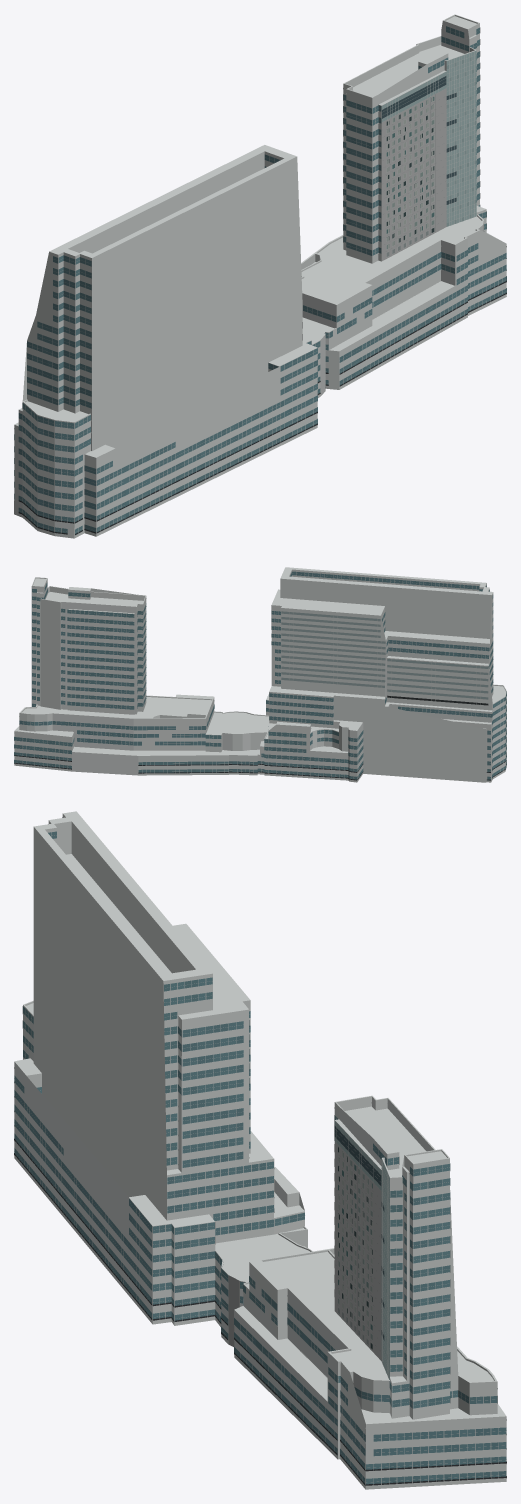
File: mark-city-before-west-cap.glb
3 renders of one model, top to bottom at view 1: azimuth 30°, elevation 25°; view 2: azimuth 150°, elevation 25°; view 3: azimuth 270°, elevation 25°, orthographic. The views are drawn at different scales.
Parts seen in each view (by area): view 1: mark-city_wall, mark-city_roof, mark-city_glass2, mark-city_glass0, mark-city_glass1, mark-city_spandrel, mark-city_east_hotel_wall, mark-city_east_curtain_pale, mark-city_east_window_frame, mark-city_frame, mark-city_sign_housing, mark-city_east_curtain_closed (+2 smaller); view 2: mark-city_wall, mark-city_roof, mark-city_glass1, mark-city_glass2, mark-city_glass0, mark-city_spandrel, mark-city_west_ribbon_glass, mark-city_west_lower_glass, mark-city_frame, mark-city_sign_housing, mark-city_west_ribbon_frame, mark-city_west_lower_frame (+1 smaller); view 3: mark-city_wall, mark-city_roof, mark-city_glass2, mark-city_glass1, mark-city_glass0, mark-city_spandrel, mark-city_east_hotel_wall, mark-city_frame, mark-city_east_curtain_pale, mark-city_sign_housing, mark-city_east_window_frame, mark-city_east_curtain_closed.
Part boxes in pixels (x1,y1,x2,y2): mark-city_wall: (14, 15, 506, 538); mark-city_roof: (14, 14, 500, 457); mark-city_glass2: (14, 29, 506, 534); mark-city_glass0: (14, 27, 506, 533); mark-city_glass1: (14, 26, 502, 531); mark-city_spandrel: (14, 33, 506, 536); mark-city_east_hotel_wall: (381, 88, 446, 261); mark-city_east_curtain_pale: (381, 50, 476, 225); mark-city_east_window_frame: (382, 52, 476, 257); mark-city_frame: (19, 27, 506, 535); mark-city_sign_housing: (18, 281, 506, 534); mark-city_east_curtain_closed: (386, 97, 434, 248); mark-city_wall: (14, 569, 506, 782); mark-city_roof: (14, 567, 506, 755); mark-city_glass1: (14, 572, 506, 780); mark-city_glass2: (14, 571, 506, 778); mark-city_glass0: (14, 572, 506, 779); mark-city_spandrel: (14, 575, 506, 781); mark-city_west_ribbon_glass: (281, 611, 385, 687); mark-city_west_lower_glass: (387, 659, 488, 699); mark-city_frame: (17, 573, 504, 779); mark-city_sign_housing: (14, 755, 506, 780); mark-city_west_ribbon_frame: (281, 611, 384, 687); mark-city_west_lower_frame: (387, 658, 487, 705); mark-city_wall: (14, 813, 506, 1489); mark-city_roof: (14, 811, 505, 1424); mark-city_glass2: (14, 817, 506, 1484); mark-city_glass1: (14, 831, 506, 1483); mark-city_glass0: (14, 979, 506, 1485); mark-city_spandrel: (14, 838, 506, 1486); mark-city_east_hotel_wall: (334, 1141, 381, 1360); mark-city_frame: (14, 817, 505, 1484); mark-city_east_curtain_pale: (334, 1121, 389, 1379); mark-city_sign_housing: (14, 1139, 506, 1485); mark-city_east_window_frame: (334, 1120, 389, 1370); mark-city_east_curtain_closed: (338, 1148, 372, 1335).
Bounding box in the file's own units: 256 × 112 × 151.
